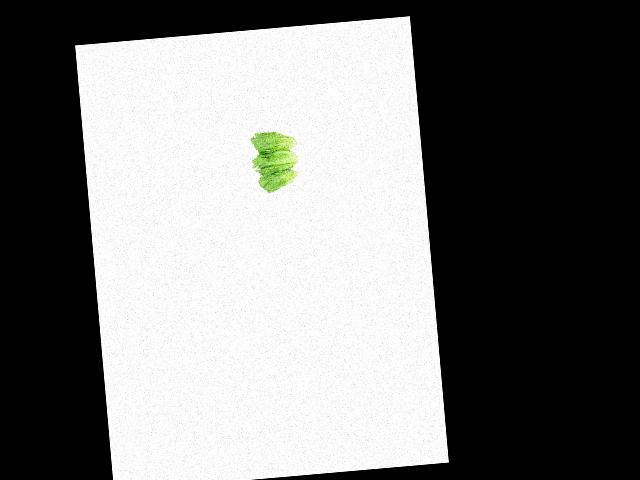lettuce: (256, 164, 310, 194)
